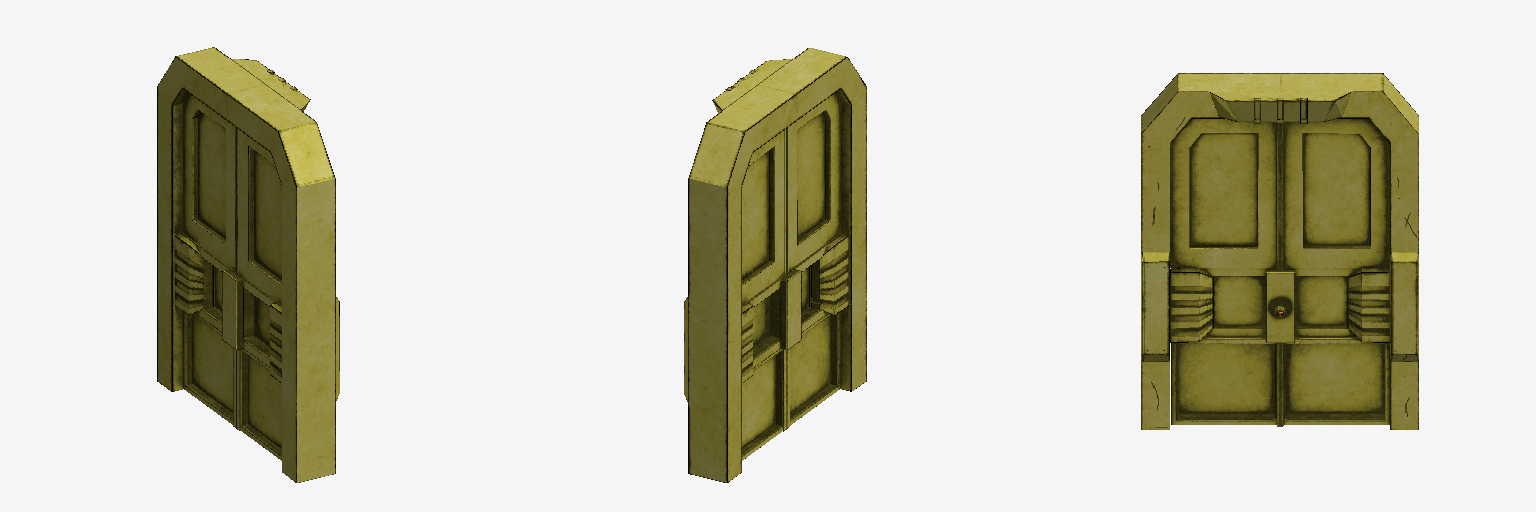
The picture shows the model from 3 angles: view 1: azimuth 30°, elevation 25°; view 2: azimuth 150°, elevation 25°; view 3: azimuth 270°, elevation 25°; orthographic projection.
Visible parts, largest first — view 1: SM_Door_3_JFG_Cube.008; view 2: SM_Door_3_JFG_Cube.008; view 3: SM_Door_3_JFG_Cube.008.
Boxes of the visible parts, x1=… form: SM_Door_3_JFG_Cube.008: x1=157, y1=47, x2=339, y2=482; SM_Door_3_JFG_Cube.008: x1=684, y1=48, x2=866, y2=482; SM_Door_3_JFG_Cube.008: x1=1141, y1=73, x2=1418, y2=429.
Bounding box in the file's own units: 0.7924 × 4.44 × 3.3.
1 materials, 1 textured.